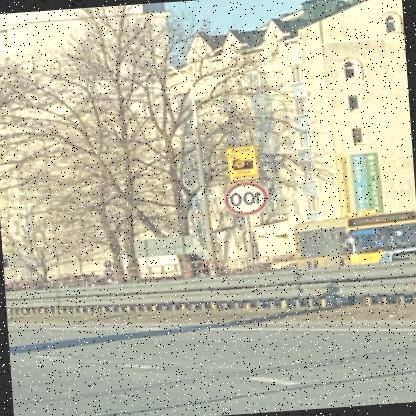speedlimit: (228, 179, 272, 214)
